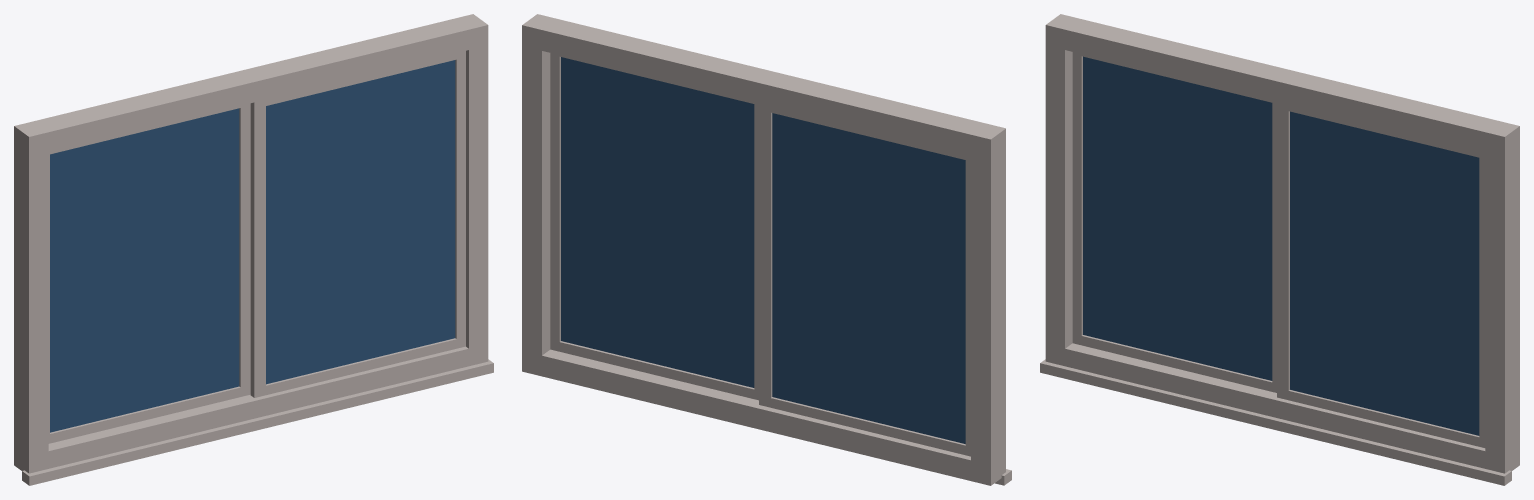
File: SM_Opening_Window16511_01.gltf
The picture shows the model from 3 angles, left to right: view 1: azimuth 30°, elevation 25°; view 2: azimuth 150°, elevation 25°; view 3: azimuth 330°, elevation 25°; orthographic projection. The views are drawn at different scales.
Parts seen in each view (by area): view 1: SM_Opening_Window16511_01; view 2: SM_Opening_Window16511_01; view 3: SM_Opening_Window16511_01.
Boxes of the visible parts, x1,y1,x2,y2 form: SM_Opening_Window16511_01: (14, 14, 493, 485); SM_Opening_Window16511_01: (522, 14, 1011, 485); SM_Opening_Window16511_01: (1040, 14, 1519, 485).
Bounding box in the file's own units: 1.79 × 1.28 × 0.12.
Materials: 1 (1 with a texture image).
